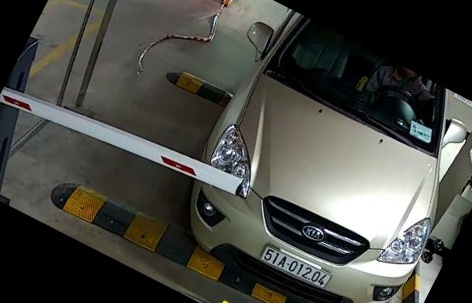plate: (261, 243, 340, 295)
